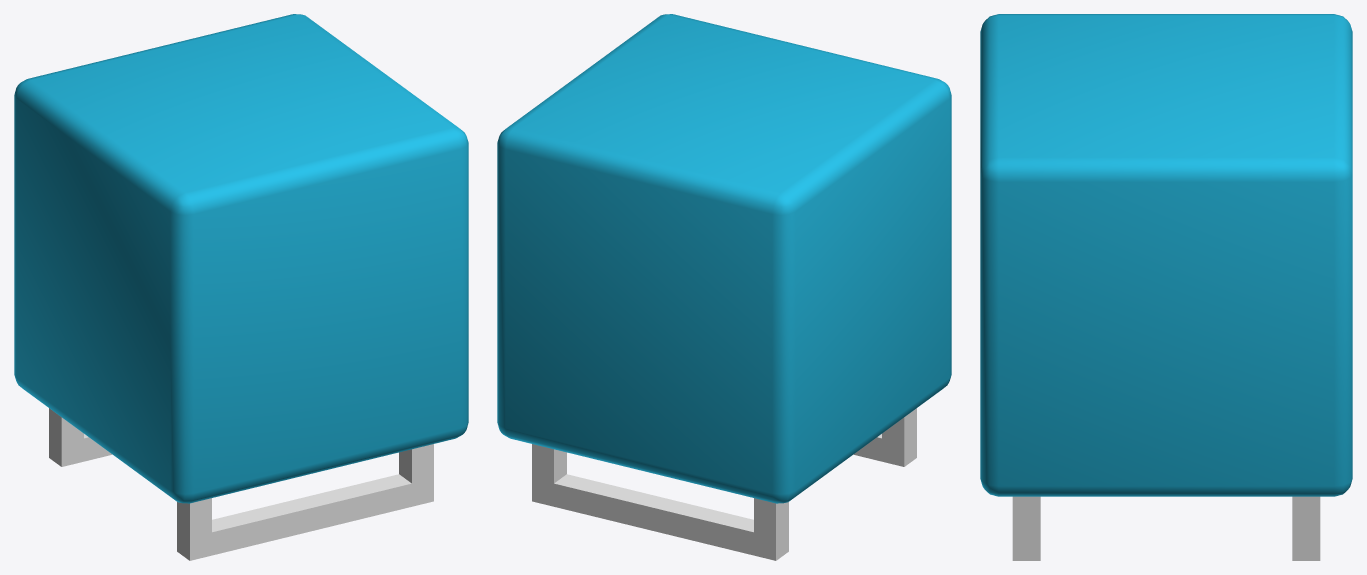
Rendered from sikakuisu.gltf.
3 renders of one model, left to right at view 1: azimuth 30°, elevation 25°; view 2: azimuth 150°, elevation 25°; view 3: azimuth 270°, elevation 25°, orthographic. The views are drawn at different scales.
Parts seen in each view (by area): view 1: 立方体, 立方体.006, 立方体.004, 立方体.001, 立方体.002; view 2: 立方体, 立方体.005, 立方体.002, 立方体.003, 立方体.004; view 3: 立方体, 立方体.001, 立方体.003.
Boxes of the visible parts, box(x1,y1,x2,y2) form: 立方体: box(14, 14, 468, 503); 立方体.006: box(212, 474, 411, 555); 立方体.004: box(177, 498, 211, 560); 立方体.001: box(399, 444, 433, 506); 立方体.002: box(49, 408, 83, 466); 立方体: box(497, 14, 951, 503); 立方体.005: box(554, 474, 753, 555); 立方体.002: box(754, 498, 788, 560); 立方体.003: box(532, 444, 566, 506); 立方体.004: box(882, 408, 916, 466); 立方体: box(980, 14, 1352, 496); 立方体.001: box(1012, 496, 1040, 560); 立方体.003: box(1292, 496, 1320, 560).
Size of the model in its own units: 0.4 by 0.485 by 0.4.
